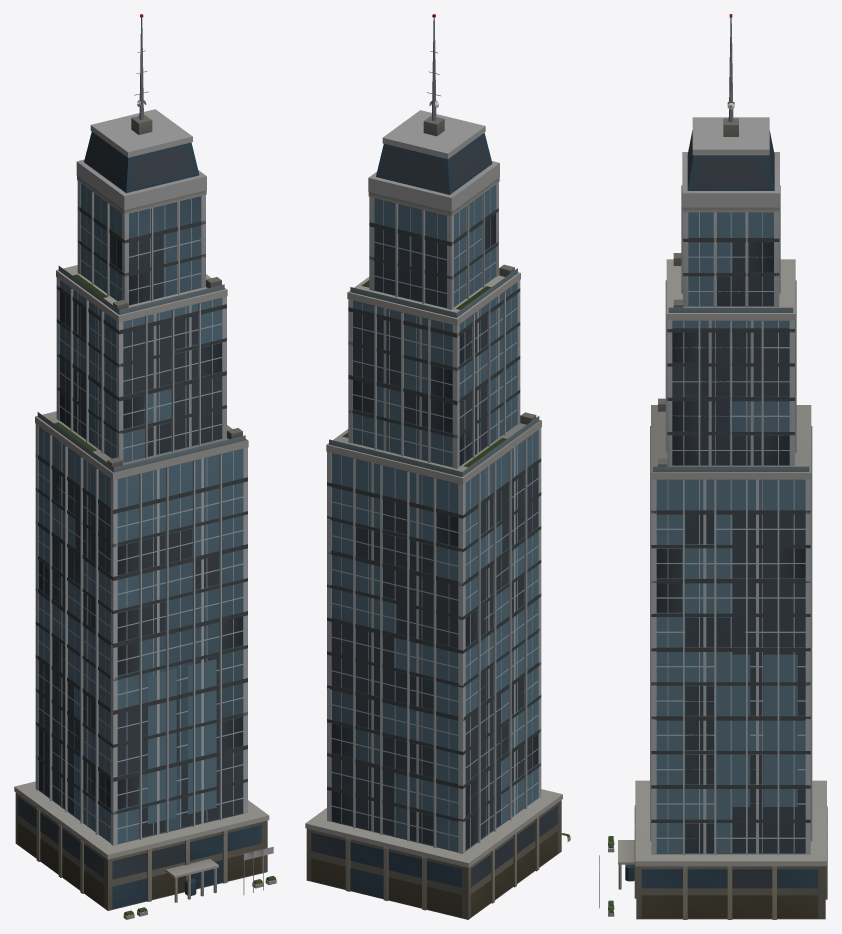
File: bld_modern_skyscraper.glb
3 views of the same model, side by side, from view 1: azimuth 30°, elevation 25°; view 2: azimuth 150°, elevation 25°; view 3: azimuth 270°, elevation 25° (orthographic). The views are drawn at different scales.
Parts seen in each view (by area): view 1: bld_modern_skyscraper_LOD0_mesh, bld_modern_skyscraper_LOD1_mesh, bld_modern_skyscraper_LOD2_mesh; view 2: bld_modern_skyscraper_LOD0_mesh, bld_modern_skyscraper_LOD1_mesh, bld_modern_skyscraper_LOD2_mesh; view 3: bld_modern_skyscraper_LOD0_mesh, bld_modern_skyscraper_LOD1_mesh, bld_modern_skyscraper_LOD2_mesh.
Part boxes in pixels (x1=…): bld_modern_skyscraper_LOD0_mesh: x1=14, y1=14, x2=276, y2=919; bld_modern_skyscraper_LOD1_mesh: x1=14, y1=18, x2=269, y2=910; bld_modern_skyscraper_LOD2_mesh: x1=38, y1=183, x2=221, y2=842; bld_modern_skyscraper_LOD0_mesh: x1=306, y1=14, x2=570, y2=919; bld_modern_skyscraper_LOD1_mesh: x1=305, y1=21, x2=562, y2=917; bld_modern_skyscraper_LOD2_mesh: x1=374, y1=185, x2=537, y2=850; bld_modern_skyscraper_LOD0_mesh: x1=599, y1=14, x2=827, y2=919; bld_modern_skyscraper_LOD1_mesh: x1=635, y1=18, x2=826, y2=861; bld_modern_skyscraper_LOD2_mesh: x1=656, y1=212, x2=805, y2=854.
Bounding box in the file's own units: 36.71 × 181 × 43.39.
